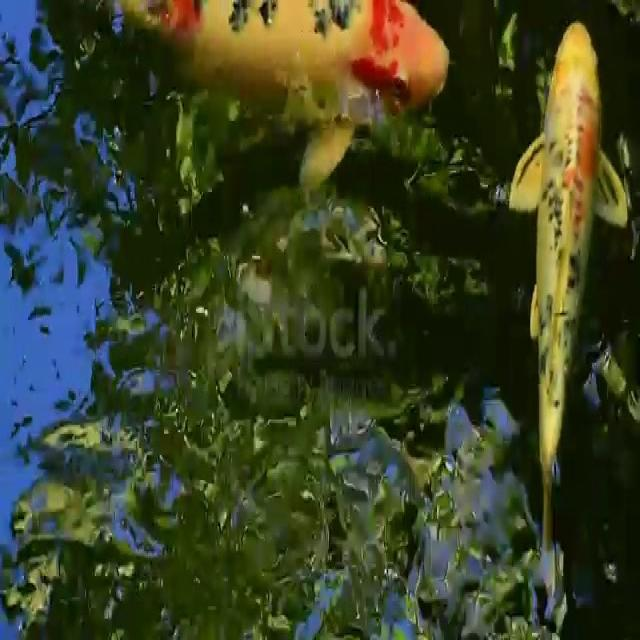fish: (512, 0, 640, 562), (122, 0, 466, 192)
